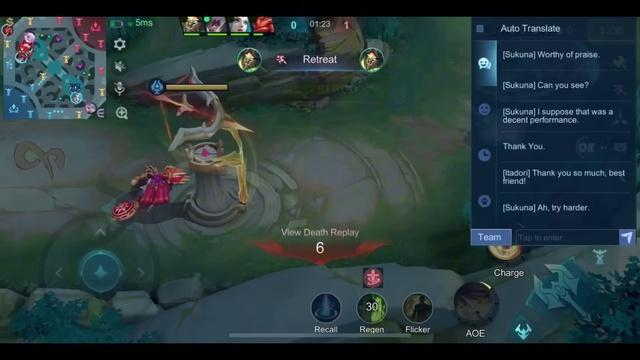Adc_Aliado: (2, 25, 16, 35)
EXP_Lane: (98, 108, 108, 118)
Exp_Enemigo: (84, 101, 96, 114)
Gold_Lane: (5, 18, 18, 28)
Heroe_Muerto: (253, 240, 385, 265)
Jungla_Aliado: (14, 52, 28, 64)
Mid_Aliado: (70, 92, 83, 103)
Mid_Enemigo: (22, 40, 34, 51)
Minimapa: (4, 18, 106, 117)
Roamer_Aliado: (18, 47, 33, 54)
Roamer_Enemigo: (22, 32, 36, 43)
Torre_Aliada: (168, 91, 253, 225)
